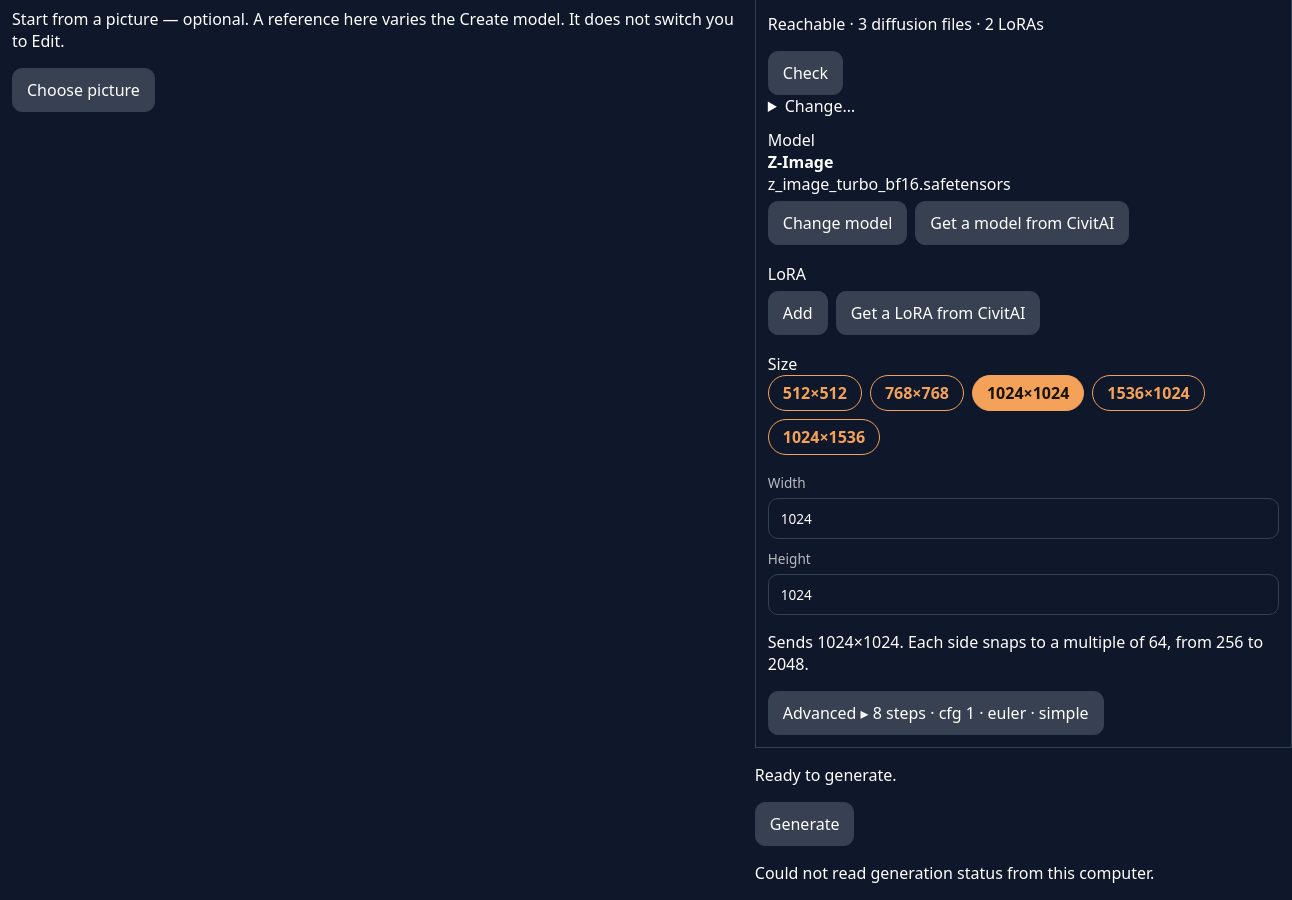
Test: size and the rest › lists the Draw Things samplers the computer sent
The image size is (1292, 900).
(page scrolled)
Click the button "Advanced ▸ 8 steps · cfg 1 · euler · simple": (936, 713) top-left (768, 691), bottom-right (1104, 735)
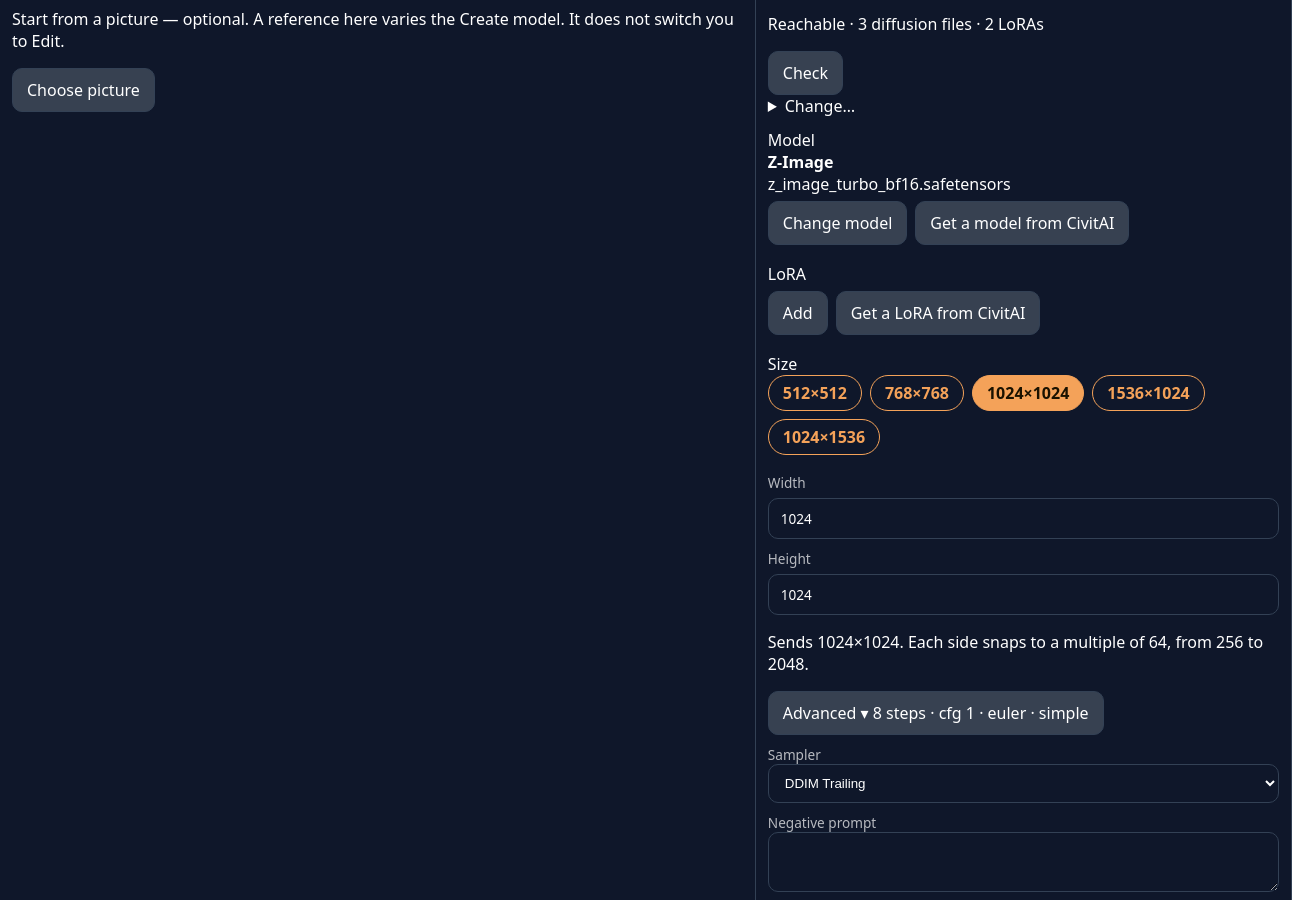
Expected: the dropdown named "Draw Things sampler" is shown, top-left (768, 764), bottom-right (1279, 803)
